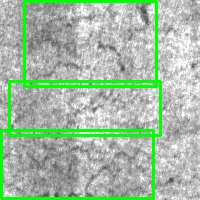crazing: (24, 1, 156, 86), (1, 130, 153, 198), (9, 81, 160, 135)
